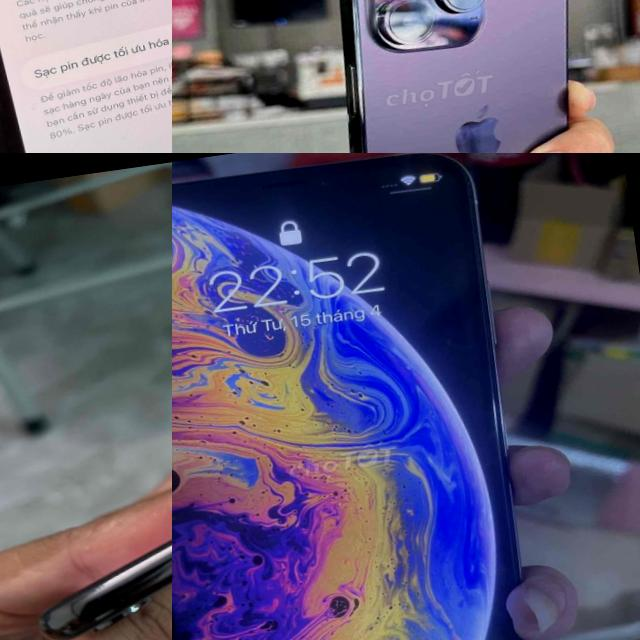gen_12_13: (0, 0, 172, 153)
gen_14: (301, 0, 633, 153)
gen_x_xs: (172, 156, 525, 640), (5, 404, 172, 640)
